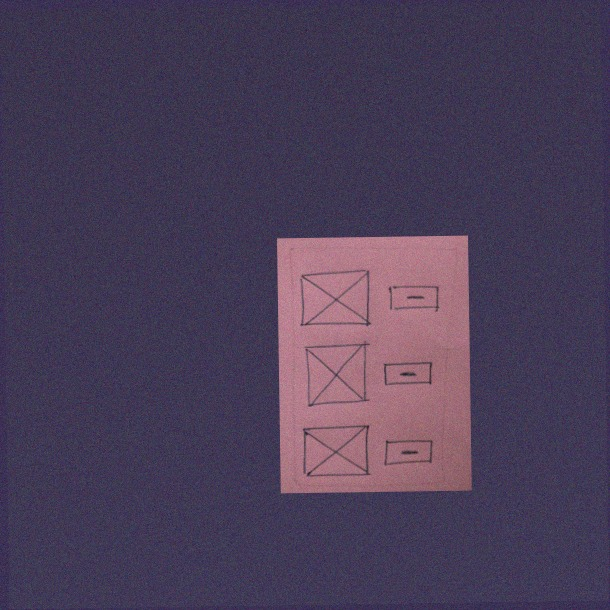button: (386, 280, 443, 317), (381, 358, 437, 392), (383, 435, 436, 469)
image: (297, 269, 375, 331), (299, 341, 372, 407), (301, 423, 373, 480)
